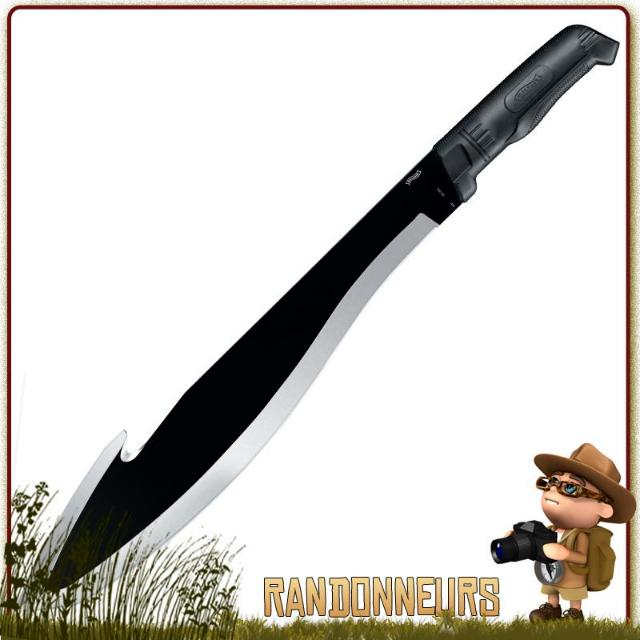long knife: (42, 16, 606, 612)
